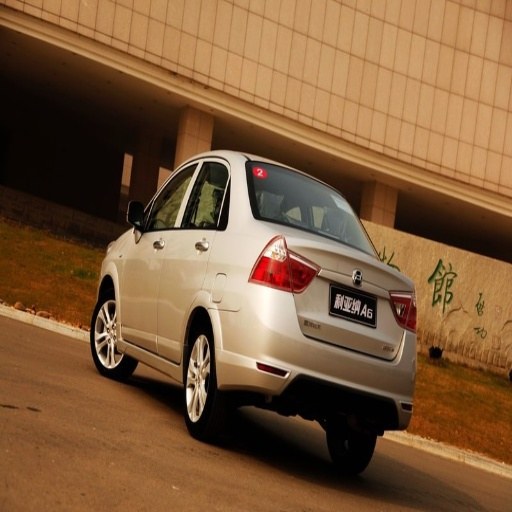back_bumper: (220, 284, 418, 418)
back_glass: (256, 167, 367, 247)
back_left_door: (158, 161, 228, 357)
